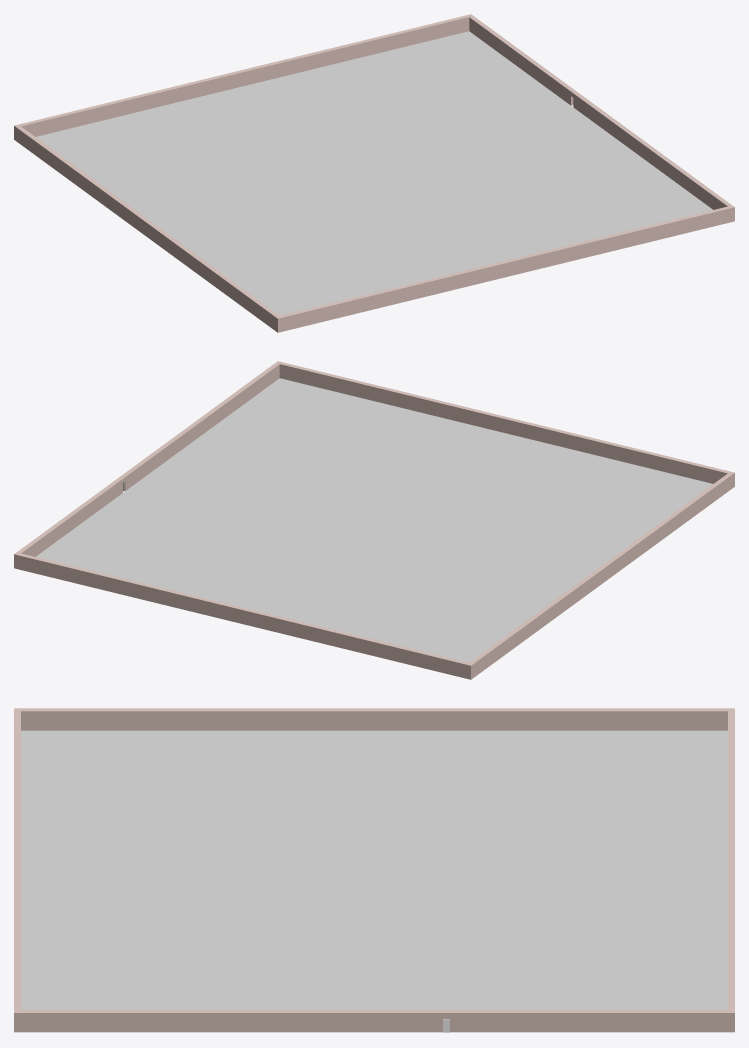
File: bangunan ukuran 100.fbx
3 views of the same model, one above another, from view 1: azimuth 30°, elevation 25°; view 2: azimuth 150°, elevation 25°; view 3: azimuth 270°, elevation 25° (orthographic). The views are drawn at different scales.
Visible parts, largest first — view 1: Plane, Room; view 2: Plane, Room; view 3: Plane, Room.
Boxes of the visible parts, bbox=[...] form: Plane: bbox=[36, 31, 712, 315]; Room: bbox=[14, 14, 734, 332]; Plane: bbox=[36, 378, 712, 662]; Room: bbox=[14, 361, 734, 679]; Plane: bbox=[21, 730, 727, 1009]; Room: bbox=[14, 708, 734, 1032].
Size of the model in its own units: 10221 by 311 by 10200.
